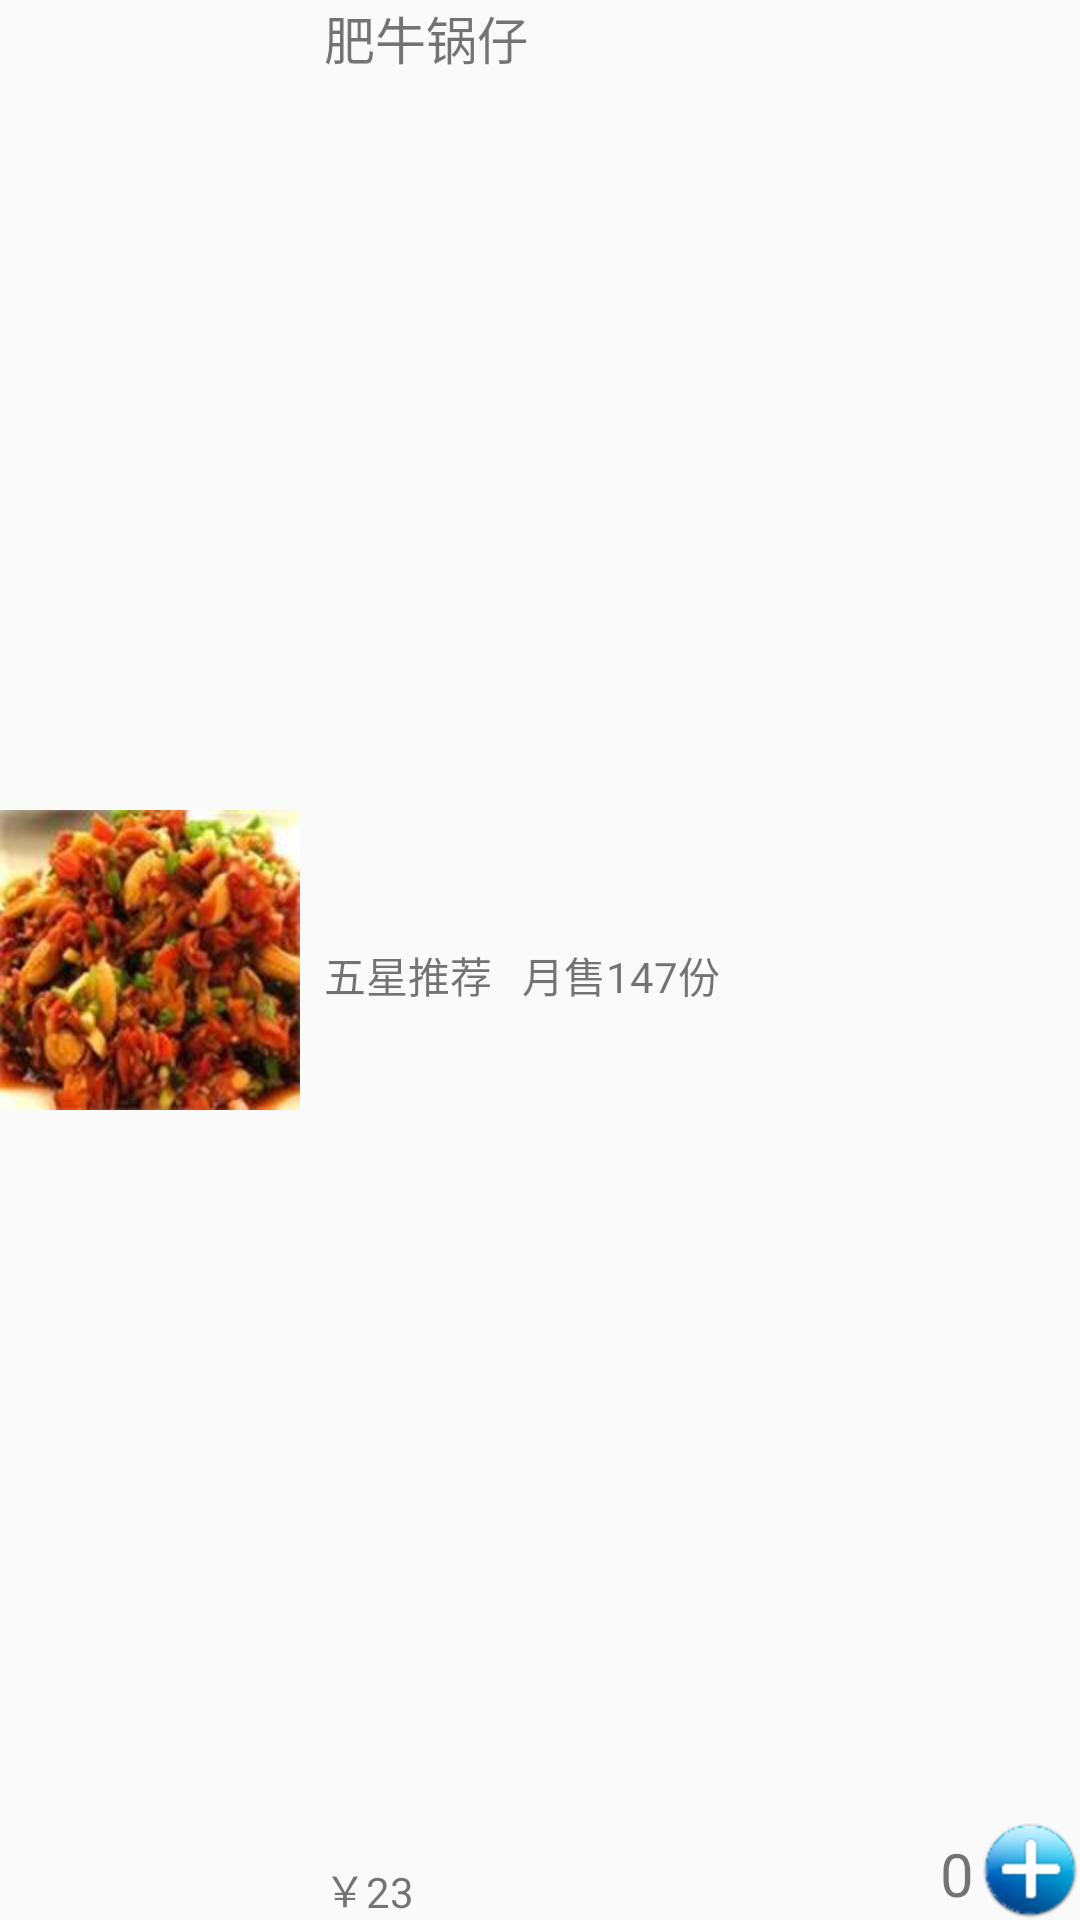

Screen size 1080 × 1920. Icon name, then its box in pixels as (x1, y1, x2, y2):
res add: (984, 1824, 1077, 1917)
